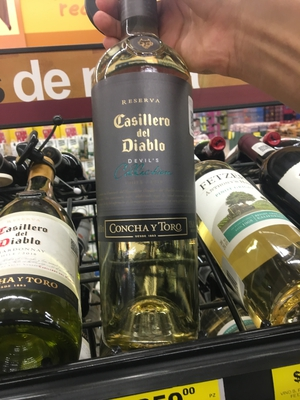casillero del diablo devils collection verde: (80, 17, 208, 332)
